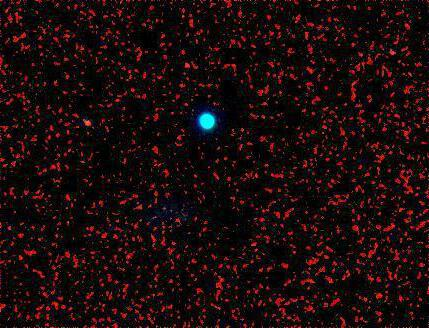star: (75, 103, 105, 133)
